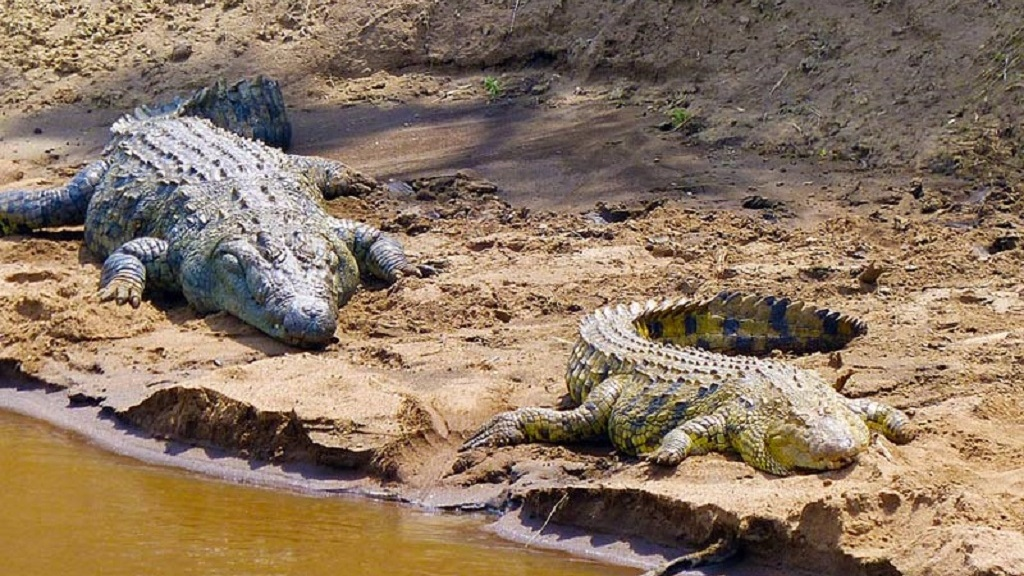crocodile: (1, 65, 442, 351), (455, 281, 924, 478)
